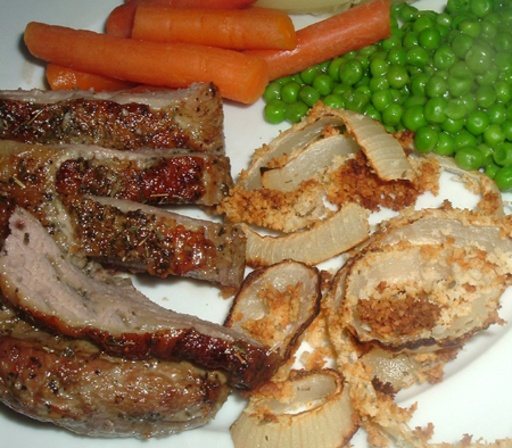background: (0, 0, 410, 314)
